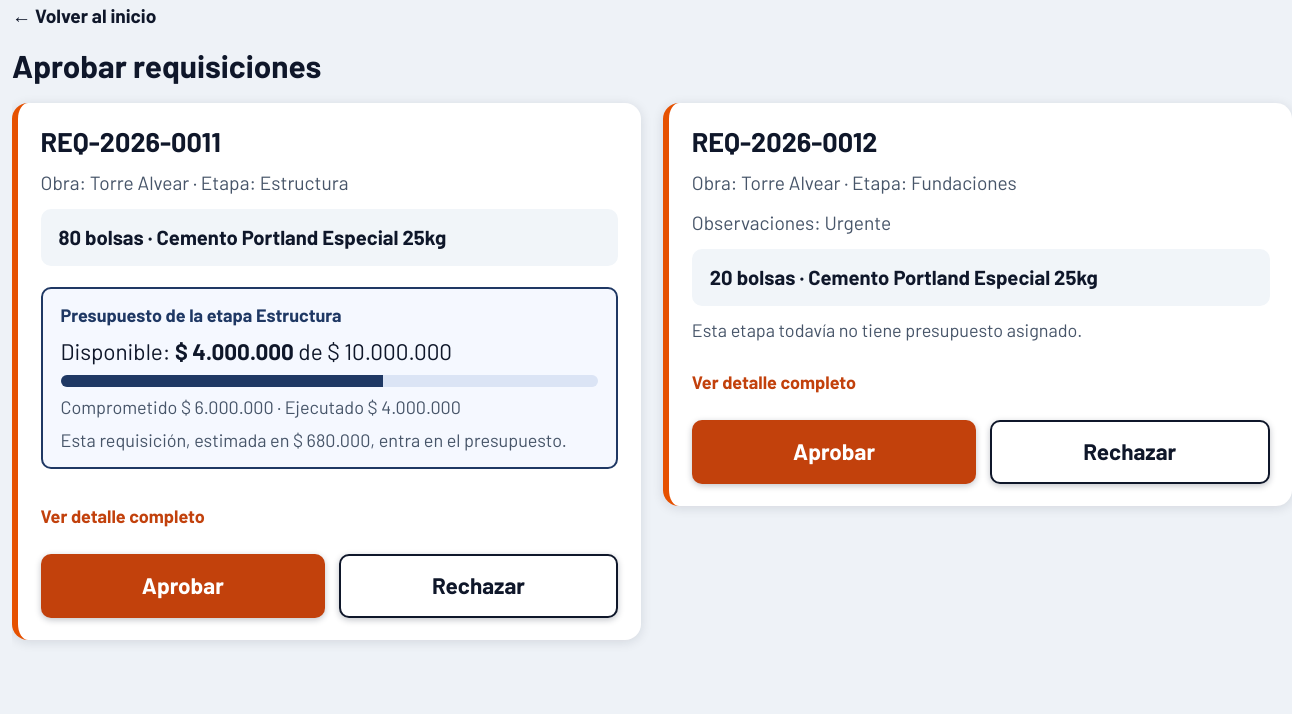
Test: AprobarRequisicionesPage › permite cancelar el formulario de rechazo y restaurar los botones
The width and height of the screenshot is (1292, 714).
Expected: the heading "REQ-2026-0011" is shown, [40,125,221,157]
Click the button with aria-label "Rechazar REQ-2026-0011" at {"x": 478, "y": 586}, box [339,554,618,618]
(page scrolled)
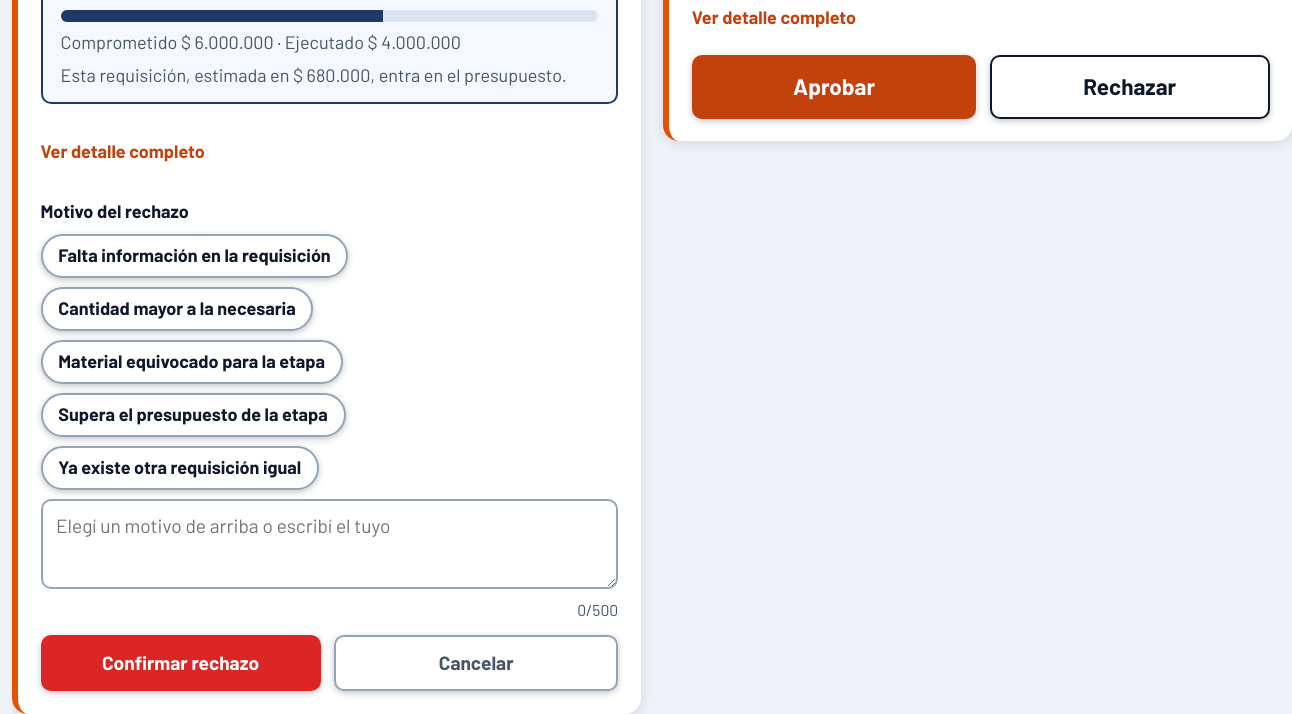
Now the button "Confirmar rechazo" is shown, box [40,635,321,691]
Click the button "Cancelar" at {"x": 476, "y": 663}, box [334,635,618,691]
(page scrolled)
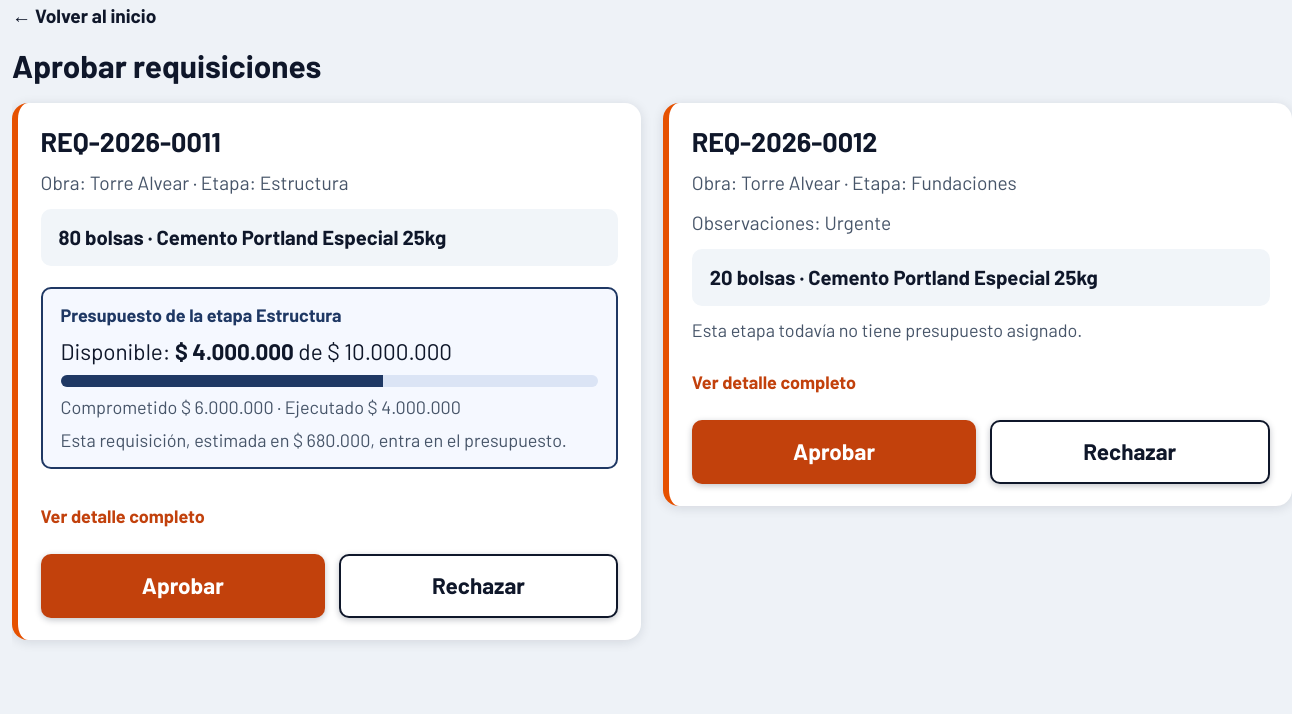
Now the button with aria-label "Aprobar REQ-2026-0011" is shown, box [40,554,325,618]
Now the button with aria-label "Rechazar REQ-2026-0011" is shown, box [339,554,618,618]
